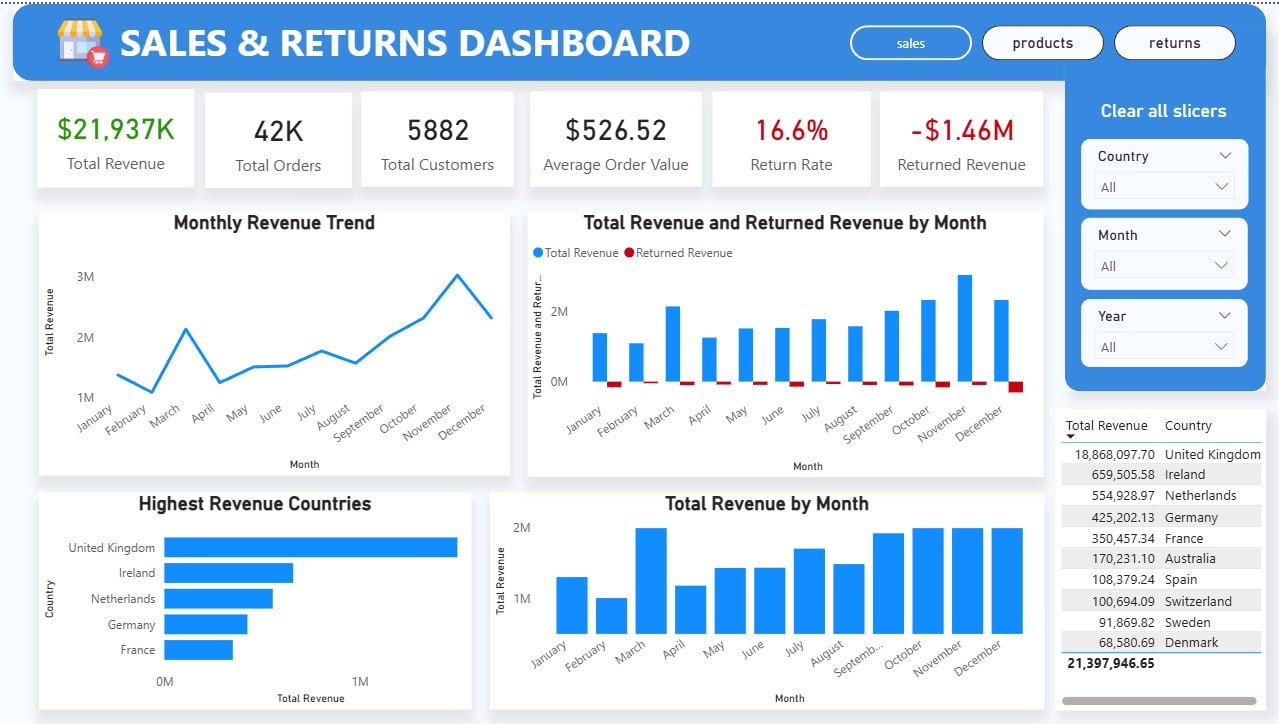

Layout of this report page (visuals, bound fields, positions):
{"tool":"powerbi","page":{"name":"sales","canvas":[1280,720],"ordinal":0},"visuals":[{"type":"shape","box":[13,0,1254,77],"z":0},{"type":"shape","box":[1064.4,25.6,201.1,362.2],"z":1000},{"type":"lineChart","title":"Monthly Revenue Trend","fields":{"Y":["NTI_cleaned.Total Revenue"],"Category":["Calendar.Month"]},"box":[38.6,207.1,471.4,264.3],"z":2000},{"type":"slicer","fields":{"Values":["Calendar.Year"]},"box":[1081.6,295.4,166.4,67.6],"z":2000,"group":"g2"},{"type":"slicer","fields":{"Values":["Calendar.Month"]},"box":[1081.6,213.9,166.4,72],"z":3000,"group":"g2"},{"type":"columnChart","fields":{"Y":["NTI_cleaned.Total Revenue"],"Category":["Calendar.Month"]},"box":[490,488.6,554.3,217.1],"z":3000},{"type":"card","fields":{"Values":["NTI_cleaned.Total Revenue"]},"box":[37.5,85.3,156.9,98.5],"z":4000,"group":"g1"},{"type":"slicer","fields":{"Values":["NTI_cleaned.Country"]},"box":[1081,135,167,70.8],"z":4000,"group":"g2"},{"type":"barChart","title":"Highest Revenue Countries","fields":{"Y":["NTI_cleaned.Total Revenue"],"Category":["NTI_cleaned.Country"]},"box":[38.6,488.6,432.9,217.1],"z":4000},{"type":"card","fields":{"Values":["NTI_cleaned.Total Orders"]},"box":[204.7,88.5,147.4,95.3],"z":5000,"group":"g1"},{"type":"clusteredColumnChart","fields":{"Y":["NTI_cleaned.Total Revenue","NTI_canceled.Returned Revenue"],"Category":["Calendar.Month"]},"box":[527.1,207.1,515.7,265.7],"z":5000},{"type":"textbox","box":[97.1,7.1,615.7,62.9],"z":6000},{"type":"card","fields":{"Values":["NTI_cleaned.Total Customers"]},"box":[361.6,88,152.9,95],"z":6000,"group":"g1"},{"type":"group","id":"g1","title":"Group 1","box":[37.5,85.3,1006.5,98.5],"z":7000},{"type":"card","fields":{"Values":["NTI_cleaned.Average Order Value"]},"box":[530.2,88,172.1,95],"z":7000,"group":"g1"},{"type":"actionButton","box":[1090,86.7,147.8,40],"z":8000},{"type":"card","fields":{"Values":["NTI_canceled.Return Rate"]},"box":[712.8,88,158.2,95],"z":8000,"group":"g1"},{"type":"card","fields":{"Values":["NTI_canceled.Returned Revenue"]},"box":[880.6,88,163.4,95],"z":9000,"group":"g1"},{"type":"group","id":"g2","title":"Group 2","box":[1081,135,167,228],"z":9000},{"type":"pageNavigator","box":[850,21.7,386.7,35],"z":10000},{"type":"tableEx","fields":{"Values":["NTI_cleaned.Total Revenue","NTI_cleaned.Country"]},"box":[1055.4,405.4,211.5,301.5],"z":11000},{"type":"image","box":[55,12.5,56.7,53.3],"z":12000}]}

Visuals, with their boxes in screenshot pixels (x1, y1, x2, y2), scaled from the page's 1280x720 canvas onto the 1279x724 screenshot:
shape: {"x1": 13, "y1": 0, "x2": 1266, "y2": 77}
shape: {"x1": 1064, "y1": 26, "x2": 1265, "y2": 390}
"Monthly Revenue Trend" lineChart: {"x1": 39, "y1": 208, "x2": 510, "y2": 474}
slicer - Calendar.Year: {"x1": 1081, "y1": 297, "x2": 1247, "y2": 365}
slicer - Calendar.Month: {"x1": 1081, "y1": 215, "x2": 1247, "y2": 287}
columnChart - NTI_cleaned.Total Revenue x Calendar.Month: {"x1": 490, "y1": 491, "x2": 1043, "y2": 710}
card - NTI_cleaned.Total Revenue: {"x1": 37, "y1": 86, "x2": 194, "y2": 185}
slicer - NTI_cleaned.Country: {"x1": 1080, "y1": 136, "x2": 1247, "y2": 207}
"Highest Revenue Countries" barChart: {"x1": 39, "y1": 491, "x2": 471, "y2": 710}
card - NTI_cleaned.Total Orders: {"x1": 205, "y1": 89, "x2": 352, "y2": 185}
clusteredColumnChart - NTI_cleaned.Total Revenue x NTI_canceled.Returned Revenue: {"x1": 527, "y1": 208, "x2": 1042, "y2": 475}
textbox: {"x1": 97, "y1": 7, "x2": 712, "y2": 70}
card - NTI_cleaned.Total Customers: {"x1": 361, "y1": 88, "x2": 514, "y2": 184}
"Group 1" group: {"x1": 37, "y1": 86, "x2": 1043, "y2": 185}
card - NTI_cleaned.Average Order Value: {"x1": 530, "y1": 88, "x2": 702, "y2": 184}
actionButton: {"x1": 1089, "y1": 87, "x2": 1237, "y2": 127}
card - NTI_canceled.Return Rate: {"x1": 712, "y1": 88, "x2": 870, "y2": 184}
card - NTI_canceled.Returned Revenue: {"x1": 880, "y1": 88, "x2": 1043, "y2": 184}
"Group 2" group: {"x1": 1080, "y1": 136, "x2": 1247, "y2": 365}
pageNavigator: {"x1": 849, "y1": 22, "x2": 1236, "y2": 57}
tableEx - NTI_cleaned.Total Revenue x NTI_cleaned.Country: {"x1": 1055, "y1": 408, "x2": 1266, "y2": 711}
image: {"x1": 55, "y1": 13, "x2": 112, "y2": 66}
